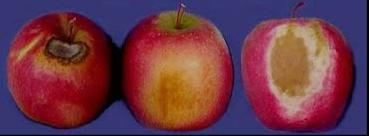red apple: (120, 8, 233, 131)
rotten apple: (237, 9, 357, 131), (6, 10, 113, 126)
